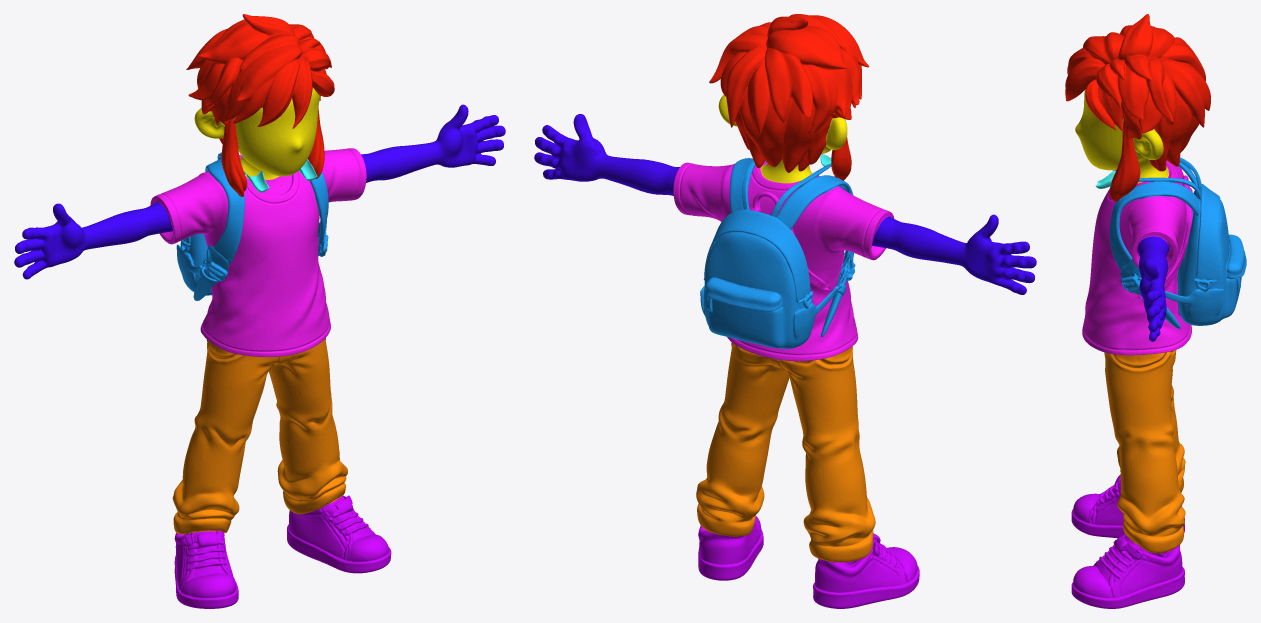
The picture shows the model from 3 angles, left to right: view 1: azimuth 30°, elevation 25°; view 2: azimuth 150°, elevation 25°; view 3: azimuth 270°, elevation 25°; orthographic projection. The views are drawn at different scales.
Visible parts, largest first — view 1: model_part2, model_part3, model_part4, model_part0, model_part9, model_part5, model_part10, model_part6, model_part1; view 2: model_part3, model_part4, model_part6, model_part2, model_part0, model_part10, model_part1, model_part9, model_part5; view 3: model_part4, model_part3, model_part2, model_part6, model_part9, model_part5, model_part10, model_part1.
Boxes of the visible parts, x1,y1,x2,y2 form: model_part2: [150, 148, 366, 356]; model_part3: [172, 338, 347, 534]; model_part4: [186, 14, 334, 196]; model_part0: [14, 202, 172, 279]; model_part9: [287, 495, 391, 573]; model_part5: [194, 87, 320, 179]; model_part10: [361, 104, 505, 182]; model_part6: [176, 152, 328, 300]; model_part1: [174, 530, 238, 608]; model_part3: [696, 343, 875, 562]; model_part4: [709, 14, 869, 180]; model_part6: [700, 158, 855, 348]; model_part2: [673, 162, 894, 361]; model_part0: [872, 214, 1036, 294]; model_part10: [534, 114, 679, 195]; model_part1: [813, 533, 919, 608]; model_part9: [698, 516, 763, 580]; model_part5: [718, 95, 847, 183]; model_part4: [1065, 14, 1210, 201]; model_part3: [1104, 350, 1185, 553]; model_part2: [1082, 160, 1192, 355]; model_part6: [1109, 157, 1246, 328]; model_part9: [1071, 534, 1184, 608]; model_part5: [1075, 89, 1168, 183]; model_part10: [1137, 236, 1169, 341]; model_part1: [1071, 474, 1184, 538].
Size of the model in its own units: 0.1106 by 0.12 by 0.0365.
